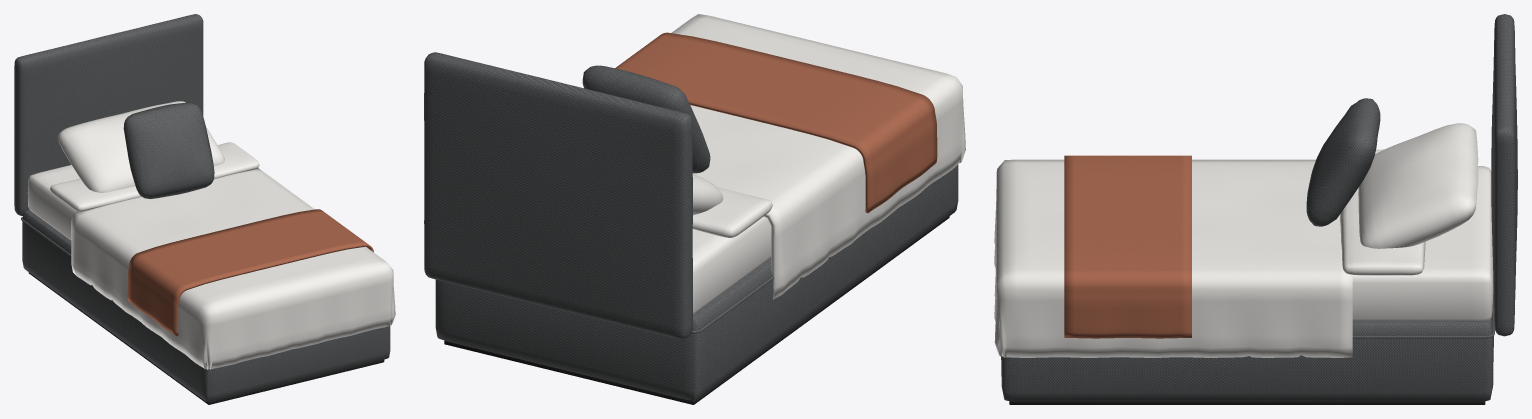
Rendered from canape_105.glb.
The picture shows the model from 3 angles, left to right: view 1: azimuth 30°, elevation 25°; view 2: azimuth 150°, elevation 25°; view 3: azimuth 270°, elevation 25°; orthographic projection. The views are drawn at different scales.
Visible parts, largest first — view 1: canape_105; view 2: canape_105; view 3: canape_105.
Boxes of the visible parts, x1,y1,x2,y2 form: canape_105: (14,14,395,404); canape_105: (424,14,965,404); canape_105: (994,14,1517,404).
Bounding box in the file's own units: 1.2 × 1.21 × 2.05.
4 materials, 3 textured.
